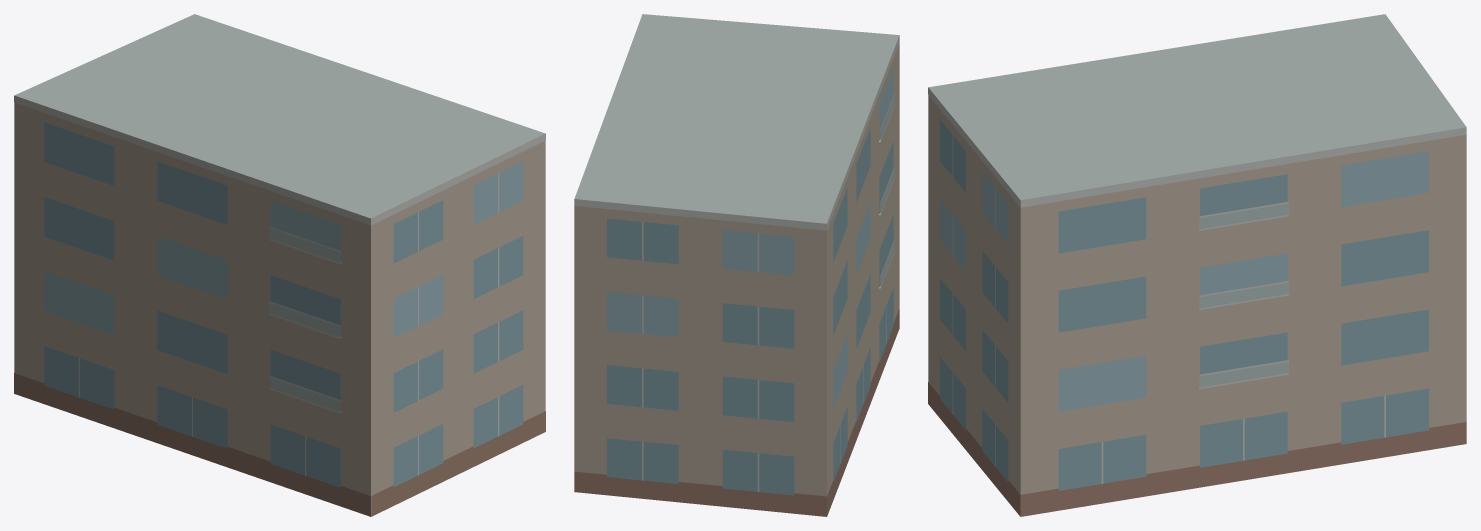
The model's file is survey-upis-32845623.glb.
3 renders of one model, left to right at view 1: azimuth 30°, elevation 25°; view 2: azimuth 150°, elevation 25°; view 3: azimuth 270°, elevation 25°, orthographic. The views are drawn at different scales.
Visible parts, largest first — view 1: survey-upis-32845623.tmp; view 2: survey-upis-32845623.tmp; view 3: survey-upis-32845623.tmp.
Boxes of the visible parts, left/top/right/bottom form: survey-upis-32845623.tmp: left=14, top=14, right=545, bottom=516; survey-upis-32845623.tmp: left=574, top=14, right=899, bottom=516; survey-upis-32845623.tmp: left=928, top=14, right=1466, bottom=516.
Size of the model in its own units: 13.13 by 10.4 by 16.04.
